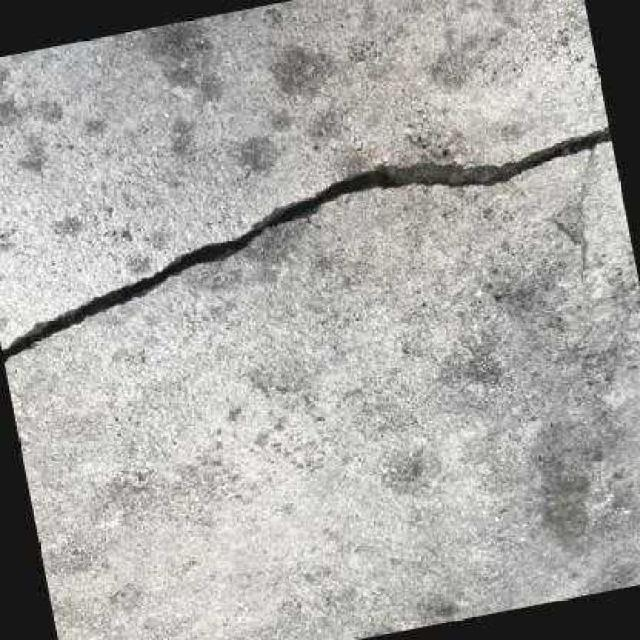D00: (0, 125, 612, 365)
